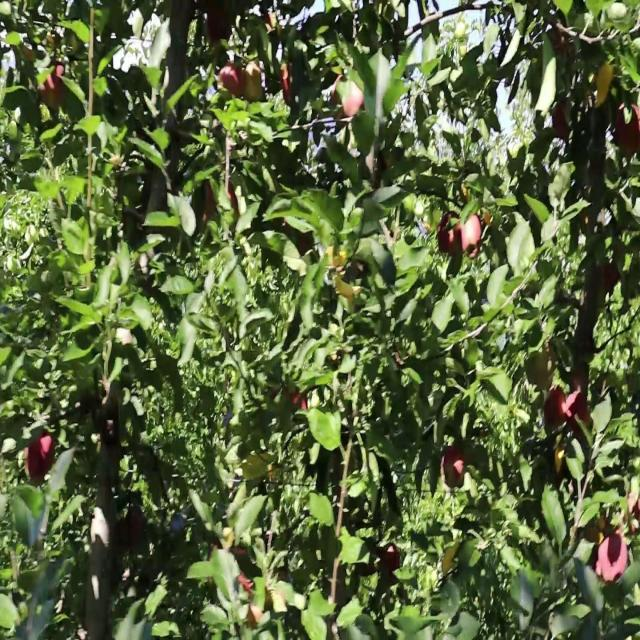apple: (248, 583, 284, 628), (600, 533, 629, 585), (568, 376, 592, 434), (28, 433, 56, 480), (40, 63, 66, 112), (616, 106, 640, 156), (568, 391, 593, 439), (440, 447, 467, 491), (248, 584, 275, 628), (436, 213, 462, 258), (272, 383, 308, 412), (208, 7, 233, 48), (592, 63, 615, 105), (464, 213, 484, 261), (244, 63, 265, 105), (544, 391, 565, 432), (220, 63, 243, 98), (552, 99, 569, 142), (344, 85, 364, 121), (172, 7, 196, 34), (280, 63, 295, 105), (552, 28, 571, 59), (440, 547, 458, 578), (604, 263, 620, 295), (629, 490, 640, 533), (288, 391, 308, 412), (332, 78, 344, 112), (384, 547, 400, 572), (556, 447, 566, 482), (292, 391, 308, 412), (264, 14, 277, 34)
